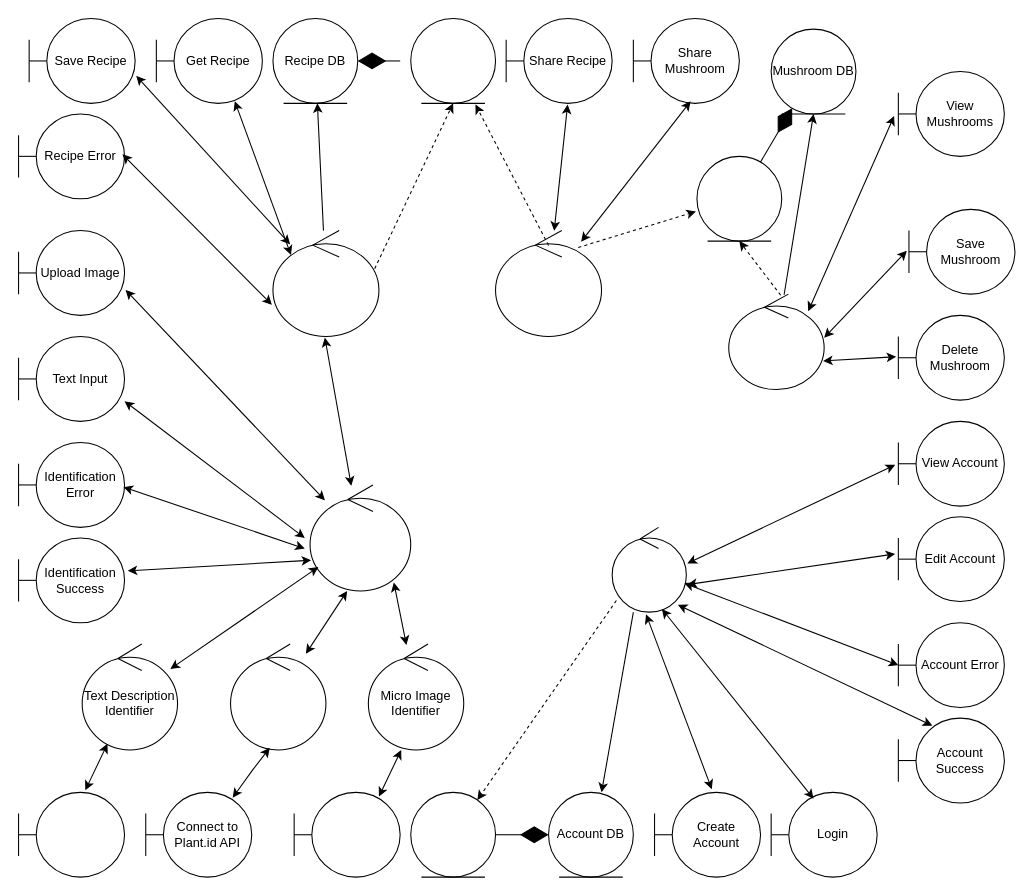
The diagram is 1034 pixels wide and 896 high, and some of its shapes have lost their labels. Here are the shapes that lost their labels. From the top down, the centre of each, then its label:
At (453,60): "Recipe Info".
At (739,198): "Mushroom Info".
At (325,283): "Recipe Recommender".
At (548,283): "Social Media Manager".
At (776,341): "Mushroom Manager".
At (360,537): "Decision Fourm".
At (648,569): "Account Manager".
At (277,696): "Macro Image Identifier".
At (71,834): "Connect to LLM".
At (346,834): "Connect to Micro API".
At (453,834): "User Info".
